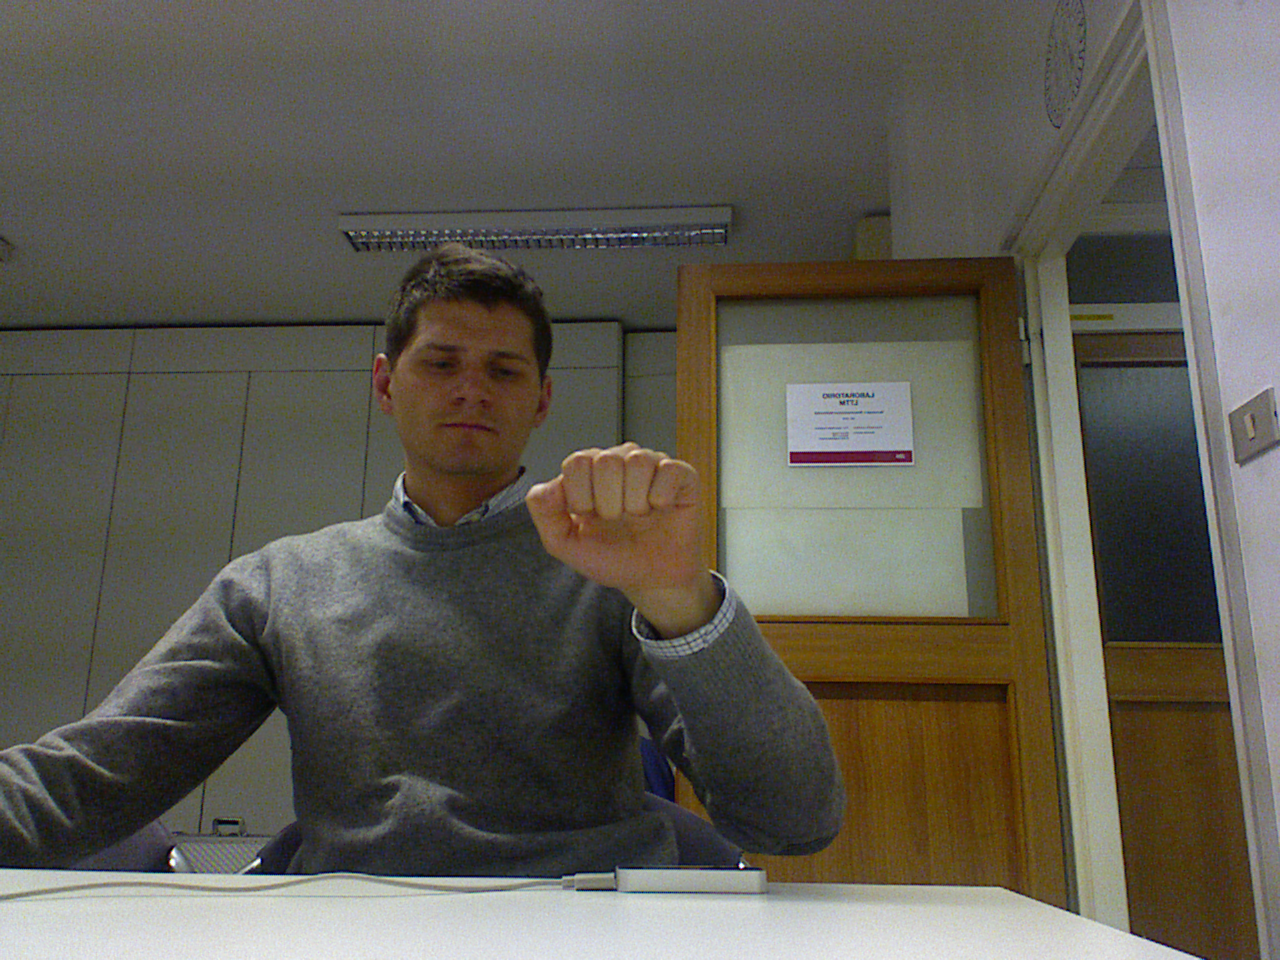hand: (519, 437, 736, 624)
